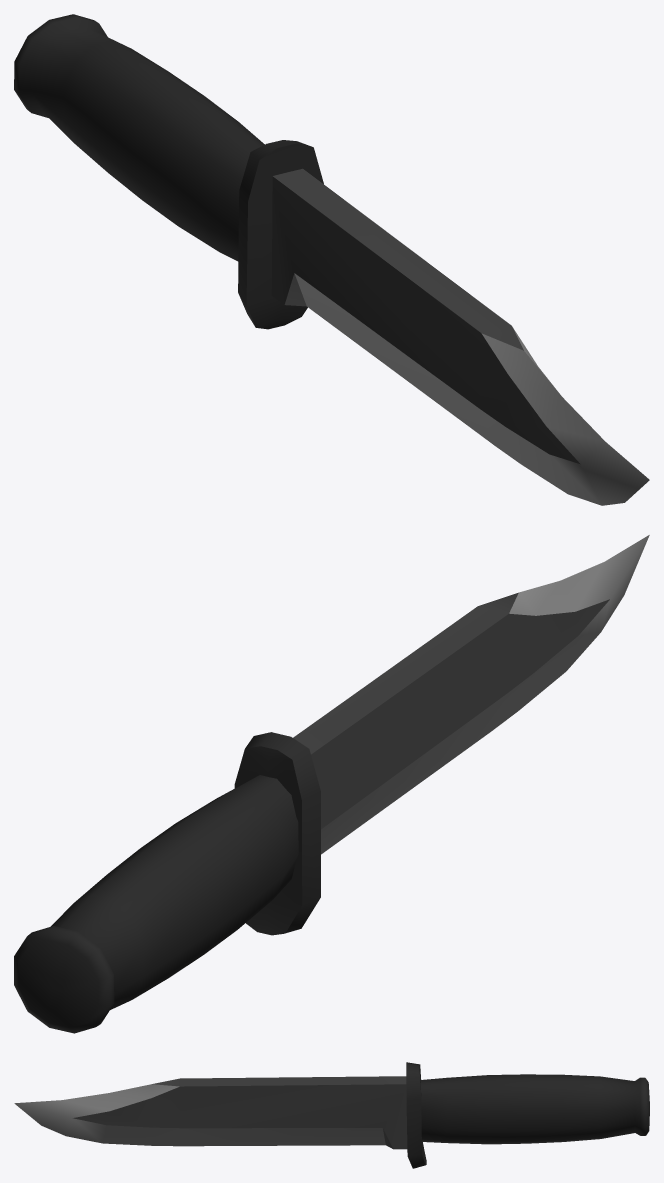
The model's file is BNG_Melee_Knife.fbx.
3 renders of one model, top to bottom at view 1: azimuth 30°, elevation 25°; view 2: azimuth 150°, elevation 25°; view 3: azimuth 270°, elevation 25°, orthographic. The views are drawn at different scales.
Visible parts, largest first — view 1: BNG_Melee_Knife; view 2: BNG_Melee_Knife; view 3: BNG_Melee_Knife.
Part boxes in pixels (x1,y1,x2,y2): BNG_Melee_Knife: [14, 14, 649, 505]; BNG_Melee_Knife: [14, 535, 649, 1033]; BNG_Melee_Knife: [14, 1062, 649, 1168].
Bounding box in the file's own units: 32.65 × 62.61 × 356.
